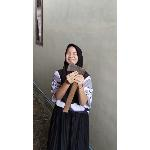Kapak: (59, 59, 89, 114)
